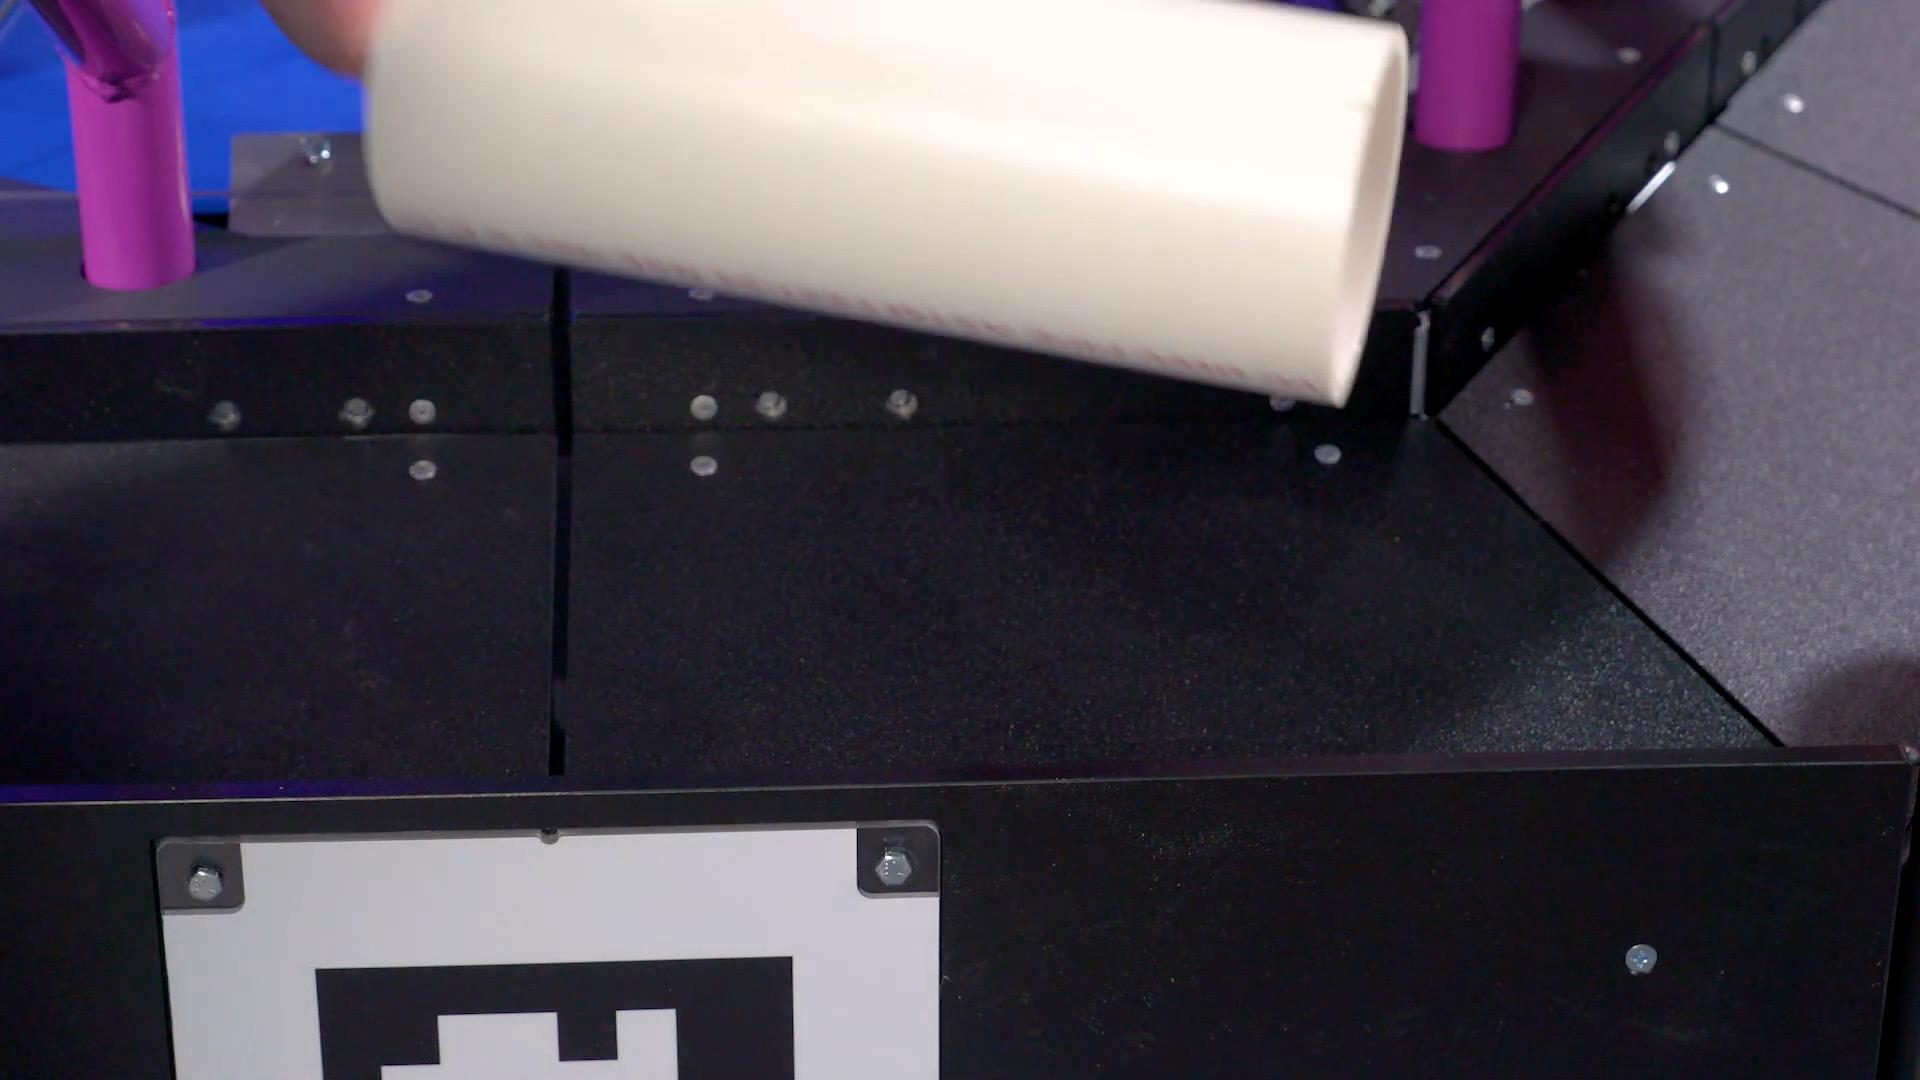CORAL: (357, 0, 1411, 411)
